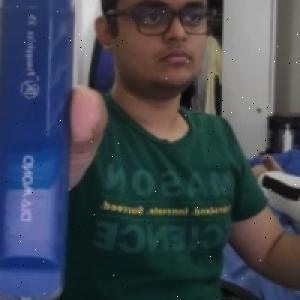Diamond-E-Ciggirate: (0, 0, 78, 300)
